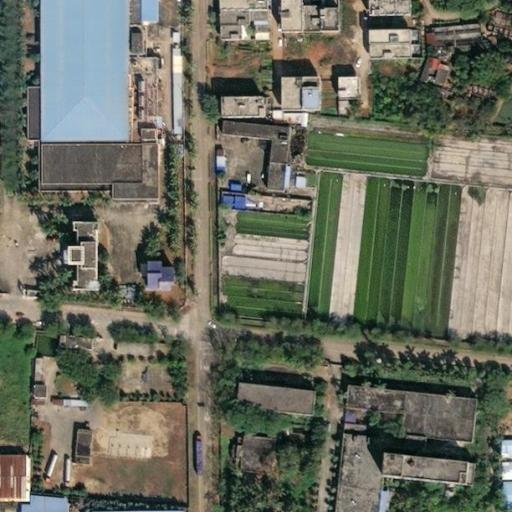building: (27, 137, 146, 194), (388, 386, 465, 438), (324, 434, 371, 512), (209, 117, 278, 160), (369, 455, 456, 486), (217, 187, 311, 215), (226, 385, 303, 417), (56, 212, 86, 282), (333, 380, 392, 410), (224, 431, 261, 472), (74, 500, 185, 512), (28, 353, 53, 399), (419, 25, 467, 45), (160, 48, 171, 131), (8, 494, 55, 512), (209, 89, 251, 109), (135, 250, 160, 283), (45, 329, 81, 349), (61, 427, 79, 466), (104, 339, 147, 355), (268, 70, 290, 101), (15, 84, 27, 138), (358, 24, 399, 39), (253, 158, 274, 187), (358, 46, 398, 61), (127, 65, 138, 117), (55, 392, 88, 409), (372, 484, 392, 512), (290, 67, 308, 98), (406, 58, 427, 84), (486, 439, 512, 460), (207, 57, 243, 72), (486, 460, 512, 480), (325, 74, 347, 97), (490, 480, 512, 503), (419, 63, 438, 86), (207, 34, 239, 47), (207, 17, 229, 34), (208, 4, 234, 18), (212, 149, 227, 173), (117, 24, 131, 47), (234, 8, 256, 19), (129, 121, 142, 132), (326, 97, 336, 111), (242, 24, 257, 32), (414, 32, 420, 45)
